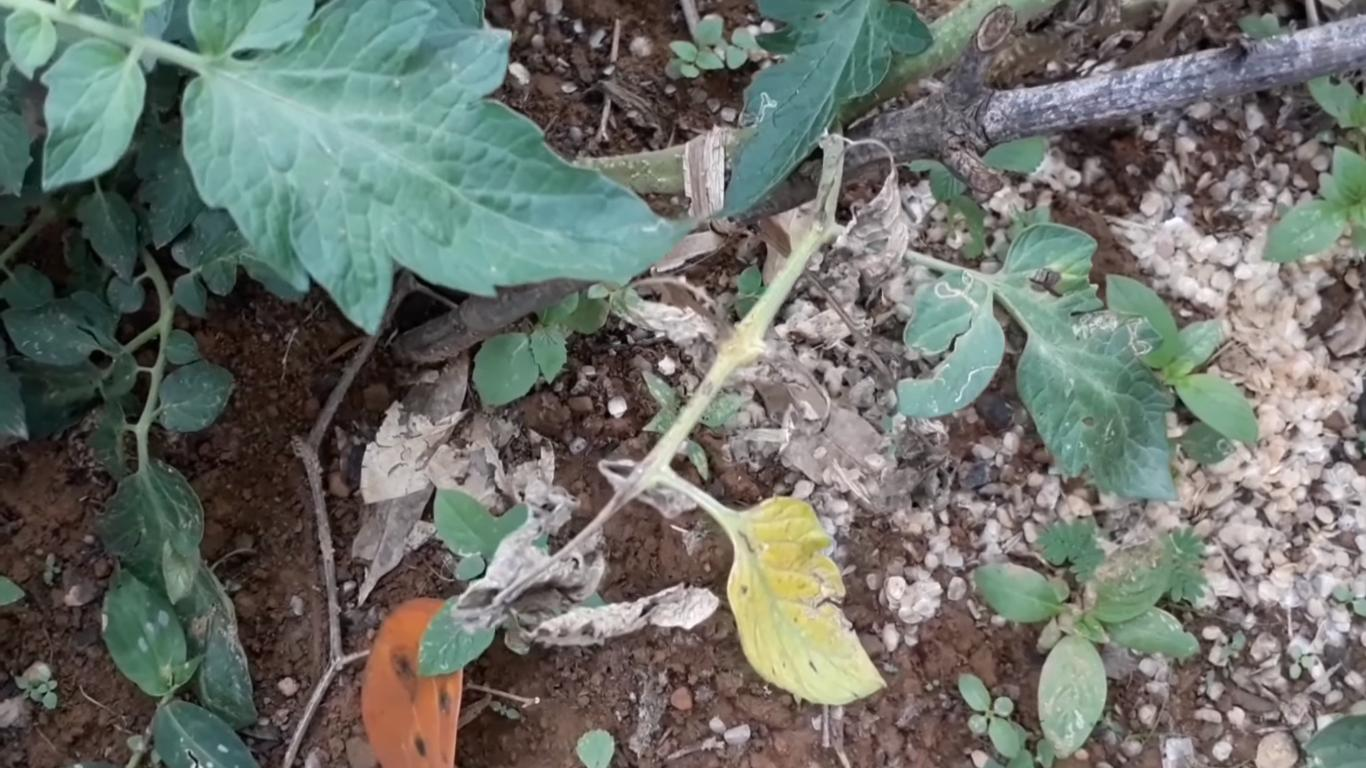Leaf_Miner: (1002, 221, 1177, 505), (711, 0, 934, 219), (896, 263, 1009, 422)
